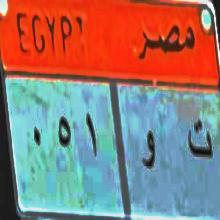0: (30, 113, 45, 168)
1: (82, 105, 102, 174)
5: (54, 107, 75, 165)
taa: (183, 114, 216, 178)
waw: (138, 121, 163, 185)
